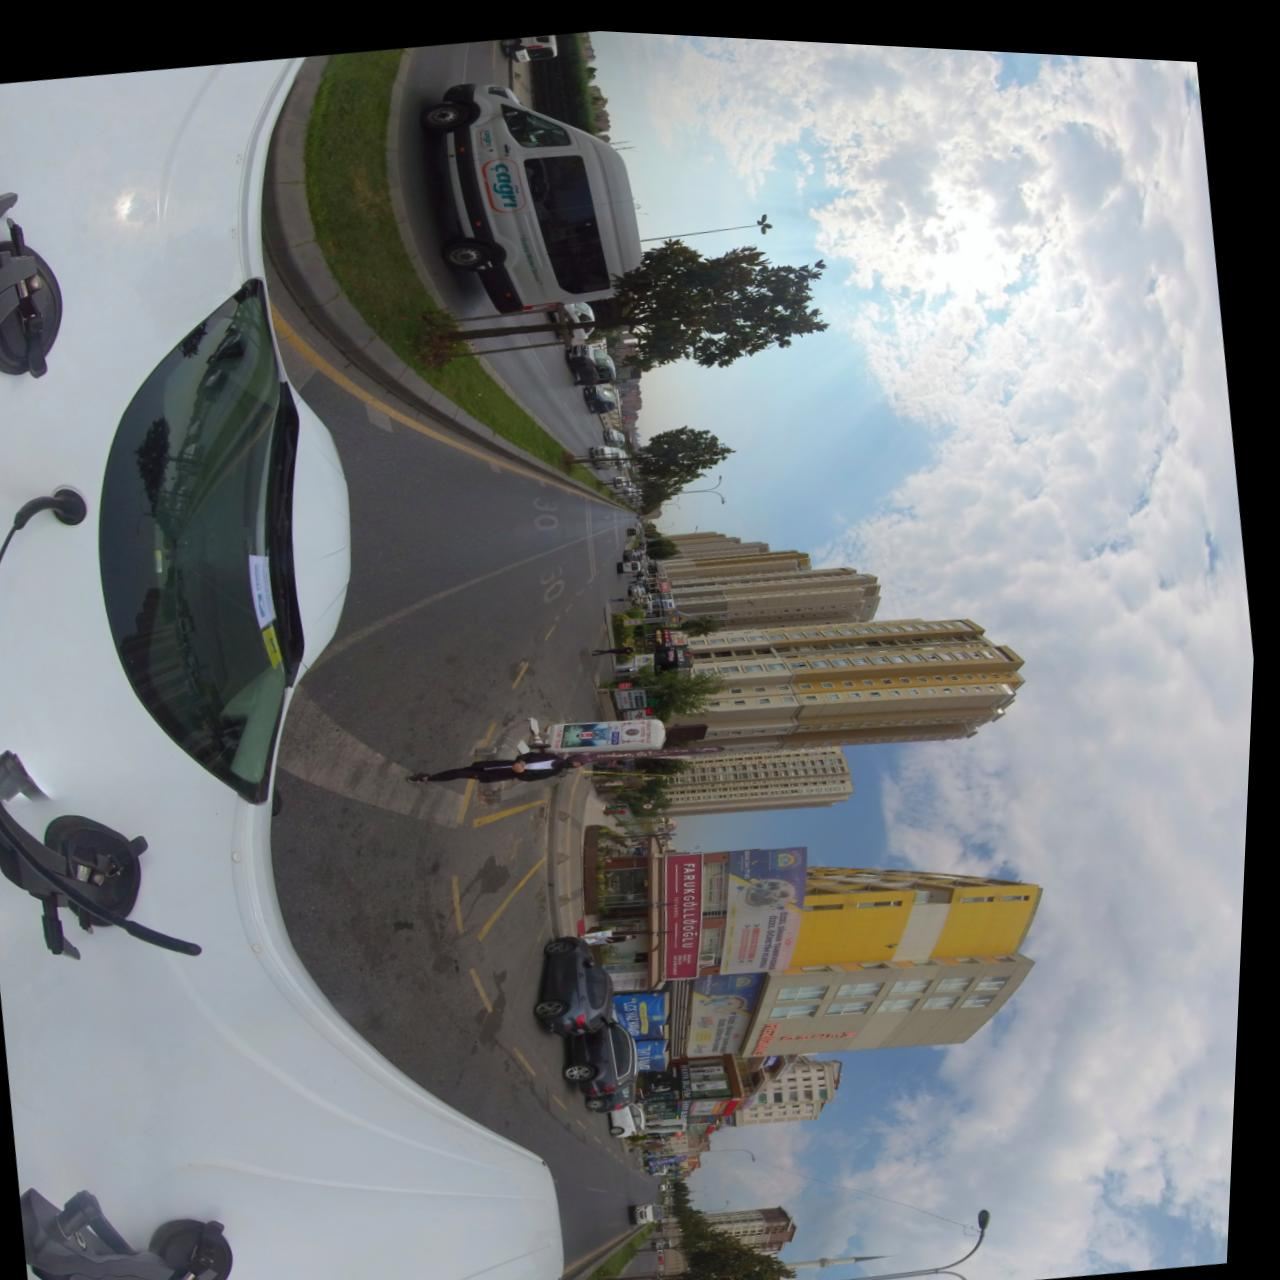SignStore: (673, 845, 709, 973), (689, 1055, 701, 1090), (687, 1091, 701, 1111), (681, 641, 690, 653), (715, 1116, 726, 1125), (665, 574, 674, 585), (668, 601, 680, 610), (666, 585, 676, 592), (668, 593, 679, 600), (685, 1123, 692, 1128)
